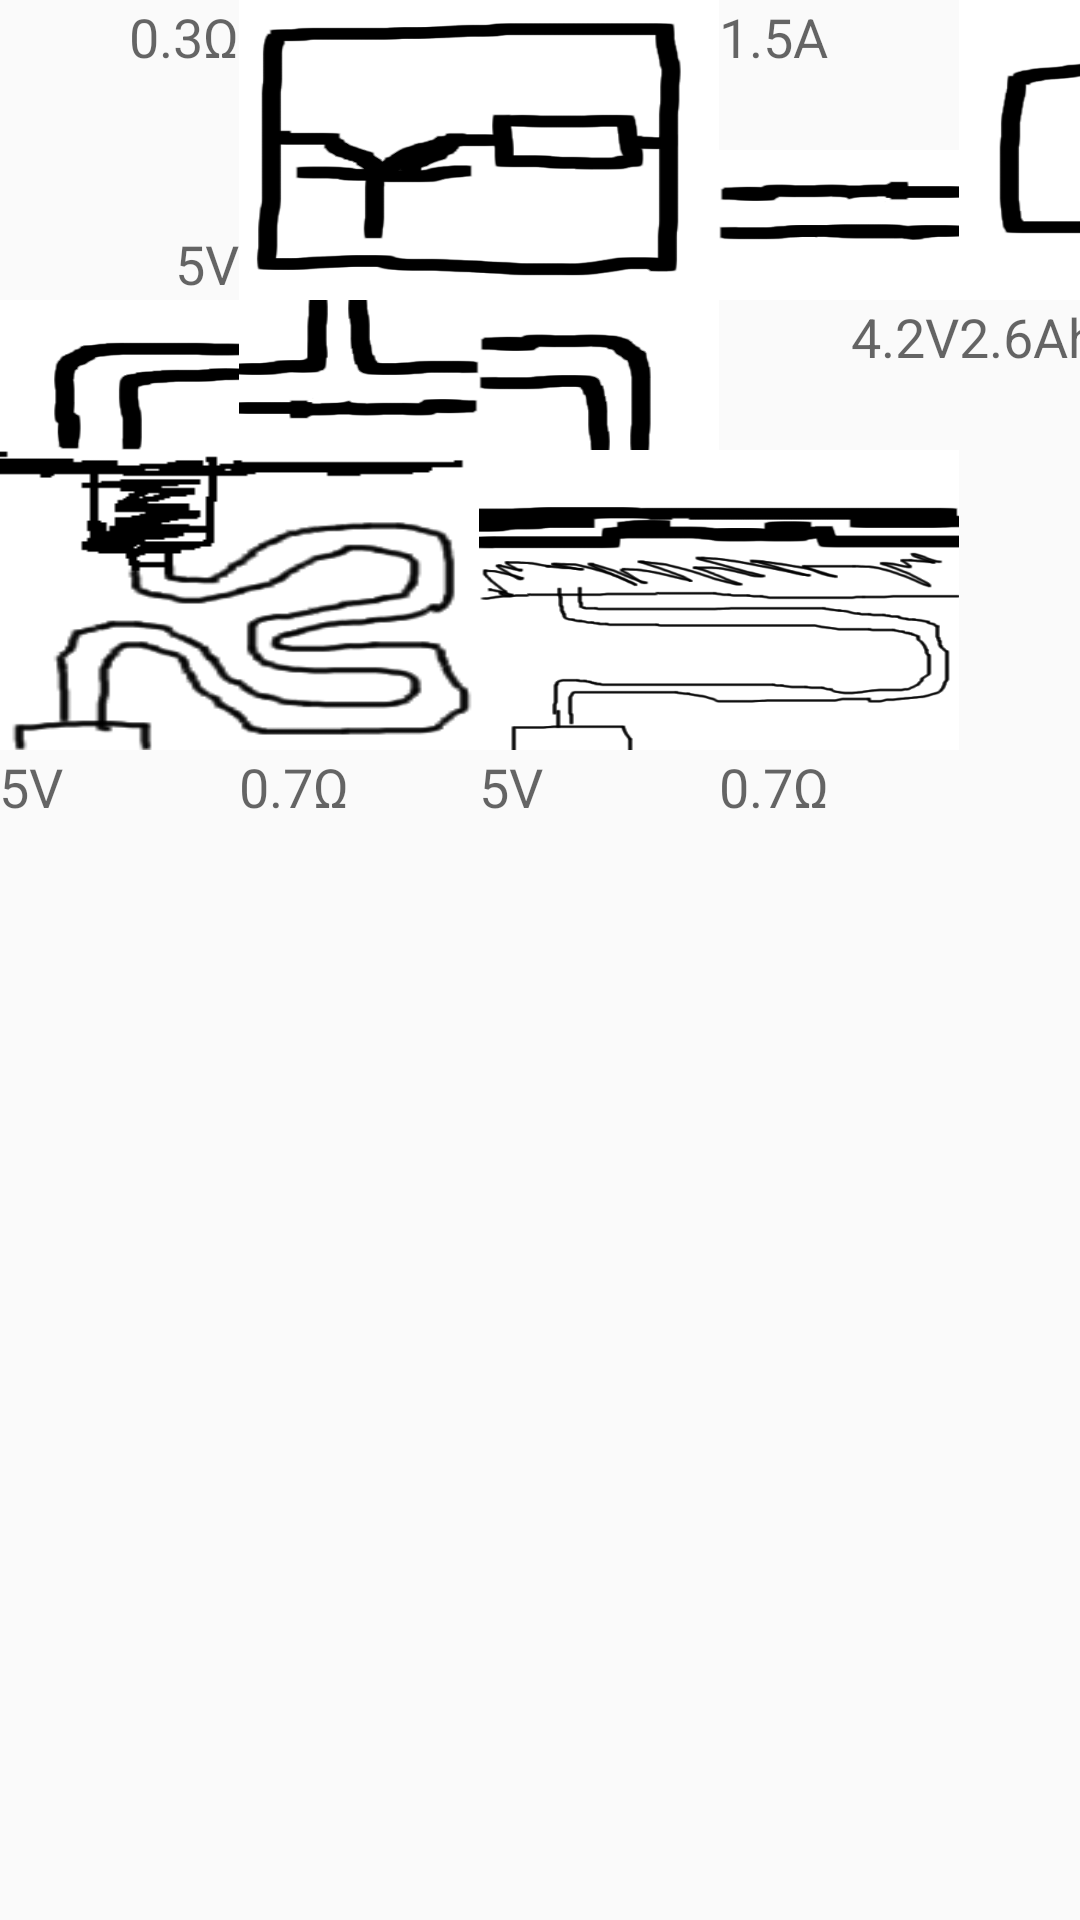

Icon click points for this 1080*1920 phone screenshot, format (x=x, y=y):
conduit lb: (x=565, y=392)
conduit lr: (x=839, y=210)
conduit lrt: (x=359, y=359)
conduit rb: (x=146, y=395)
